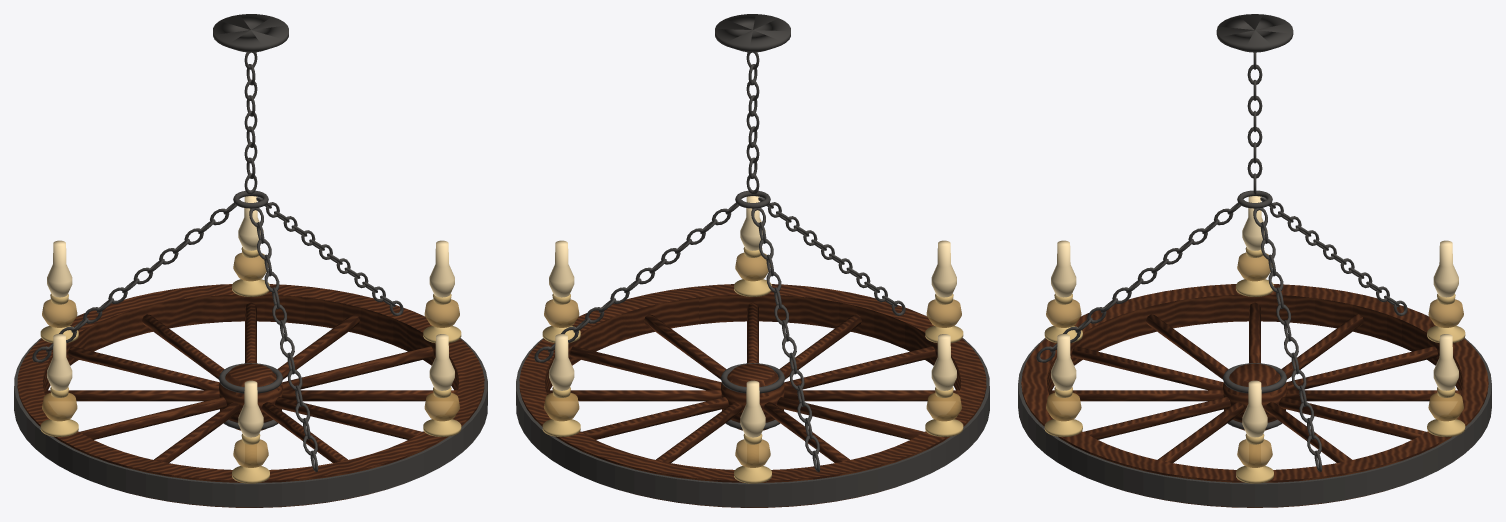
Rendered from LamparaRueda.fbx.
3 views of the same model, side by side, from view 1: azimuth 30°, elevation 25°; view 2: azimuth 150°, elevation 25°; view 3: azimuth 270°, elevation 25° (orthographic).
Parts seen in each view (by area): view 1: Lampara_Rueda_Malla; view 2: Lampara_Rueda_Malla; view 3: Lampara_Rueda_Malla.
Boxes of the visible parts, x1,y1,x2,y2 form: Lampara_Rueda_Malla: (14, 14, 487, 507); Lampara_Rueda_Malla: (516, 14, 989, 507); Lampara_Rueda_Malla: (1018, 14, 1491, 507).
Size of the model in its own units: 1.13 by 1.02 by 1.12.
